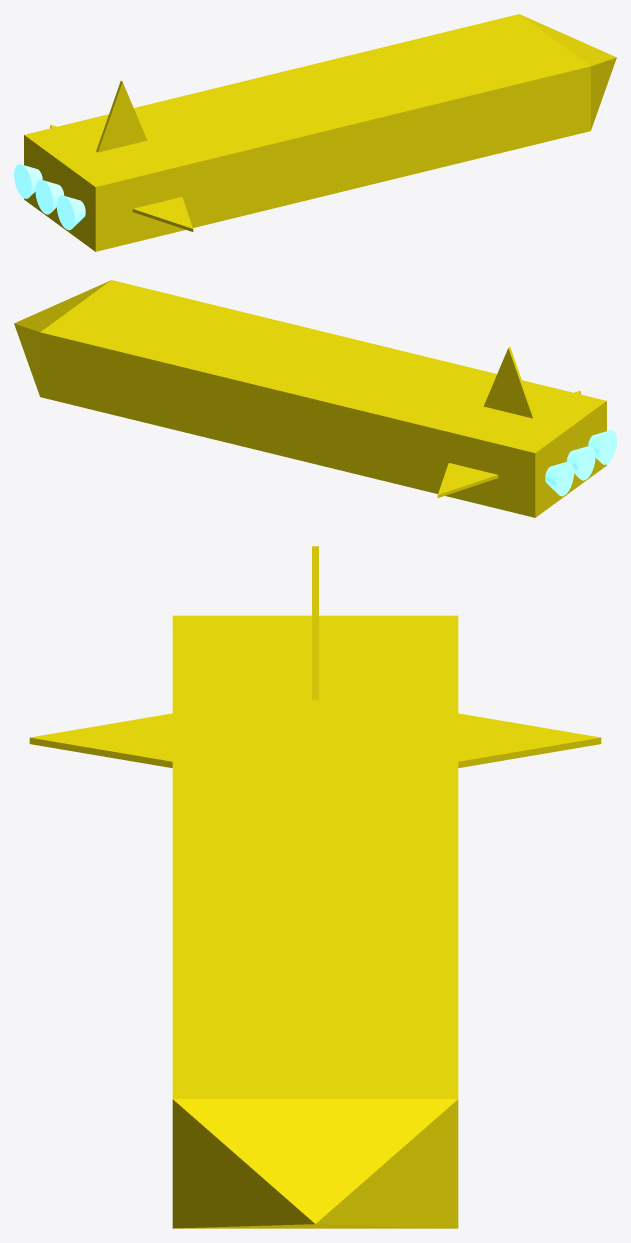
The model's file is battleship.glb.
The picture shows the model from 3 angles, top to bottom: view 1: azimuth 30°, elevation 25°; view 2: azimuth 150°, elevation 25°; view 3: azimuth 270°, elevation 25°; orthographic projection. The views are drawn at different scales.
Parts seen in each view (by area): view 1: body, head, VerticalFin, FinRight, Engine, Engine.001, Engine.002; view 2: body, head, VerticalFin, FinLeft, Engine.002, Engine.001, Engine; view 3: body, head, FinLeft, FinRight, VerticalFin.
Part boxes in pixels (bbox=[...]): body: bbox=[24, 14, 590, 251]; head: bbox=[520, 14, 616, 129]; VerticalFin: bbox=[96, 81, 147, 152]; FinRight: bbox=[132, 197, 193, 231]; Engine: bbox=[57, 195, 85, 230]; Engine.001: bbox=[35, 179, 64, 214]; Engine.002: bbox=[14, 164, 42, 198]; body: bbox=[40, 280, 606, 517]; head: bbox=[14, 280, 110, 395]; VerticalFin: bbox=[483, 347, 534, 418]; FinLeft: bbox=[437, 463, 498, 497]; Engine.002: bbox=[545, 461, 573, 496]; Engine.001: bbox=[566, 445, 595, 480]; Engine: bbox=[588, 430, 616, 464]; body: bbox=[172, 615, 458, 1098]; head: bbox=[172, 1099, 458, 1228]; FinLeft: bbox=[458, 713, 601, 767]; FinRight: bbox=[29, 713, 172, 767]; VerticalFin: bbox=[312, 546, 318, 700].
Size of the model in its own units: 9.25 by 2 by 4.
